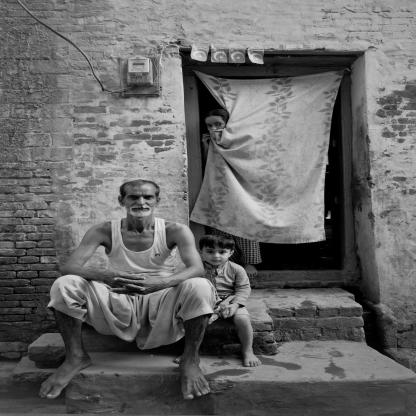Eye: (206, 249, 215, 255), (129, 194, 137, 200), (219, 250, 227, 254), (216, 122, 223, 126), (146, 196, 154, 199), (207, 124, 212, 128)
Mouth: (132, 205, 150, 211), (210, 260, 222, 262)
Nose: (137, 198, 146, 206), (213, 253, 221, 259), (212, 127, 218, 130)
